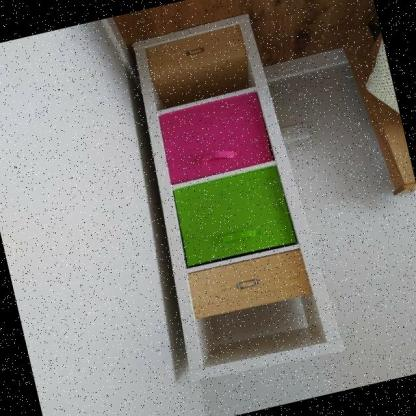Shelf: (107, 2, 353, 391)
